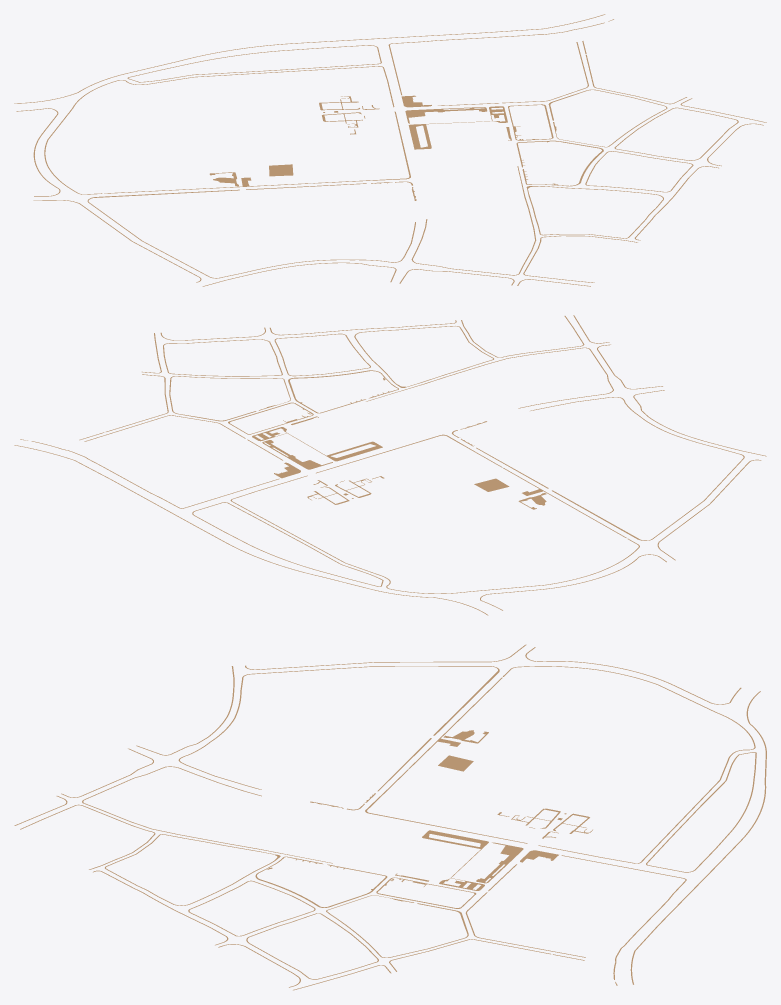
The model's file is pedestrianpath.dae.
The picture shows the model from 3 angles, top to bottom: view 1: azimuth 30°, elevation 25°; view 2: azimuth 150°, elevation 25°; view 3: azimuth 270°, elevation 25°; orthographic projection. The views are drawn at different scales.
Visible parts, largest first — view 1: a44064bc-9747-4fc5-9cf1-12e3f1b6beec, d51209e6-a40c-47de-bebf-c953173615ff, aa7f01e5-90e6-4c10-a72b-98b6b8ada635, a7657c67-a31d-4ccb-b72e-99d93484fc9c, fdd6eec2-5db9-4fc4-8393-b43153294ded; view 2: aa7f01e5-90e6-4c10-a72b-98b6b8ada635, a44064bc-9747-4fc5-9cf1-12e3f1b6beec, d51209e6-a40c-47de-bebf-c953173615ff, fdd6eec2-5db9-4fc4-8393-b43153294ded, a7657c67-a31d-4ccb-b72e-99d93484fc9c; view 3: a44064bc-9747-4fc5-9cf1-12e3f1b6beec, aa7f01e5-90e6-4c10-a72b-98b6b8ada635, fdd6eec2-5db9-4fc4-8393-b43153294ded.
Part boxes in pixels (x1,y1,x2,y2): a44064bc-9747-4fc5-9cf1-12e3f1b6beec: (87,189,415,278); d51209e6-a40c-47de-bebf-c953173615ff: (14,14,605,103); aa7f01e5-90e6-4c10-a72b-98b6b8ada635: (44,66,394,194); a7657c67-a31d-4ccb-b72e-99d93484fc9c: (127,45,381,82); fdd6eec2-5db9-4fc4-8393-b43153294ded: (408,106,507,149); aa7f01e5-90e6-4c10-a72b-98b6b8ada635: (230,475,639,593); a44064bc-9747-4fc5-9cf1-12e3f1b6beec: (530,397,744,540); d51209e6-a40c-47de-bebf-c953173615ff: (14,445,488,615); fdd6eec2-5db9-4fc4-8393-b43153294ded: (252,427,382,461); a7657c67-a31d-4ccb-b72e-99d93484fc9c: (192,502,383,586); a44064bc-9747-4fc5-9cf1-12e3f1b6beec: (178,666,499,789); aa7f01e5-90e6-4c10-a72b-98b6b8ada635: (503,666,755,863); fdd6eec2-5db9-4fc4-8393-b43153294ded: (422,830,488,890).
Size of the model in its own units: 1901522 by 1748863 by 0.
